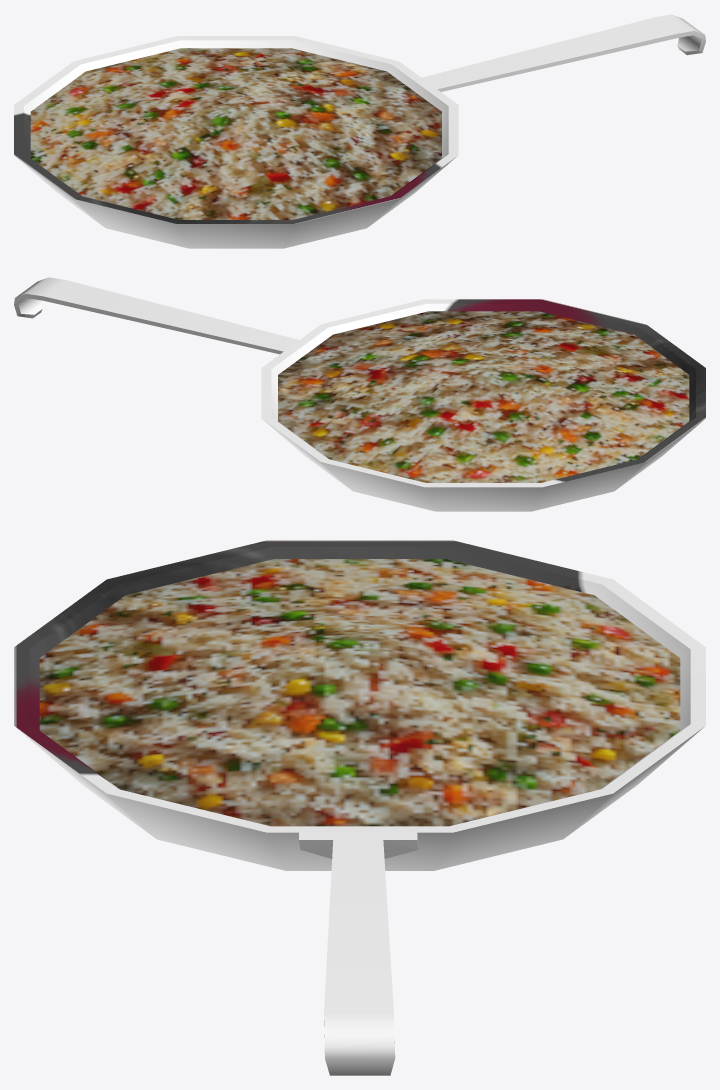
Rendered from VFX_FryingPanForgedFull.fbx.
The picture shows the model from 3 angles, top to bottom: view 1: azimuth 30°, elevation 25°; view 2: azimuth 150°, elevation 25°; view 3: azimuth 270°, elevation 25°; orthographic projection. The views are drawn at different scales.
Parts seen in each view (by area): view 1: Frying Pan Forged Full; view 2: Frying Pan Forged Full; view 3: Frying Pan Forged Full.
Part boxes in pixels (<box>): Frying Pan Forged Full: <box>14,14,705,248</box>; Frying Pan Forged Full: <box>14,277,705,511</box>; Frying Pan Forged Full: <box>14,540,705,1075</box>.
Size of the model in its own units: 0.3026 by 0.0283 by 0.179.
